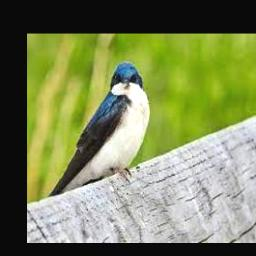Swallow: (48, 62, 150, 197)
